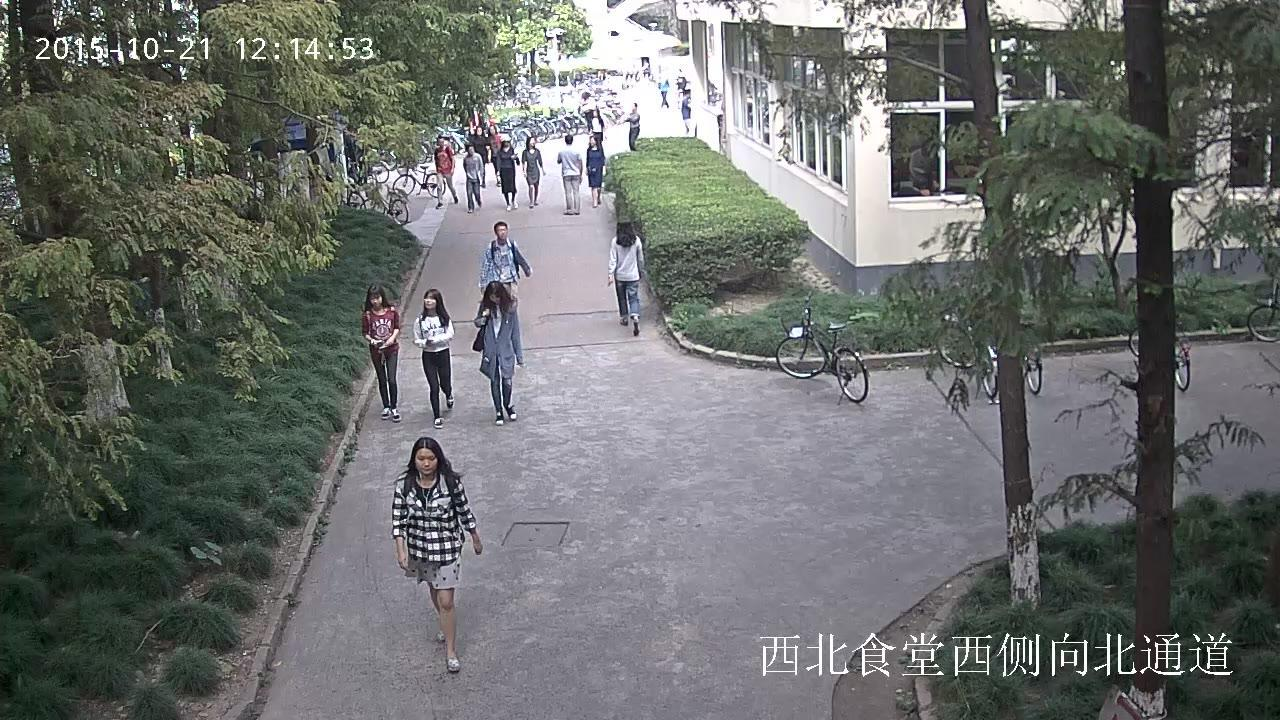person: (391, 436, 481, 672), (472, 281, 522, 425), (413, 289, 453, 428), (362, 283, 400, 421), (481, 221, 530, 308), (608, 221, 643, 336), (558, 134, 582, 214), (494, 139, 520, 212), (434, 135, 458, 208), (522, 137, 544, 208), (463, 144, 483, 213), (585, 135, 604, 207), (487, 125, 502, 186), (623, 102, 639, 150), (471, 127, 488, 163), (582, 92, 595, 131), (590, 110, 603, 143), (682, 88, 691, 132), (658, 75, 669, 108)
